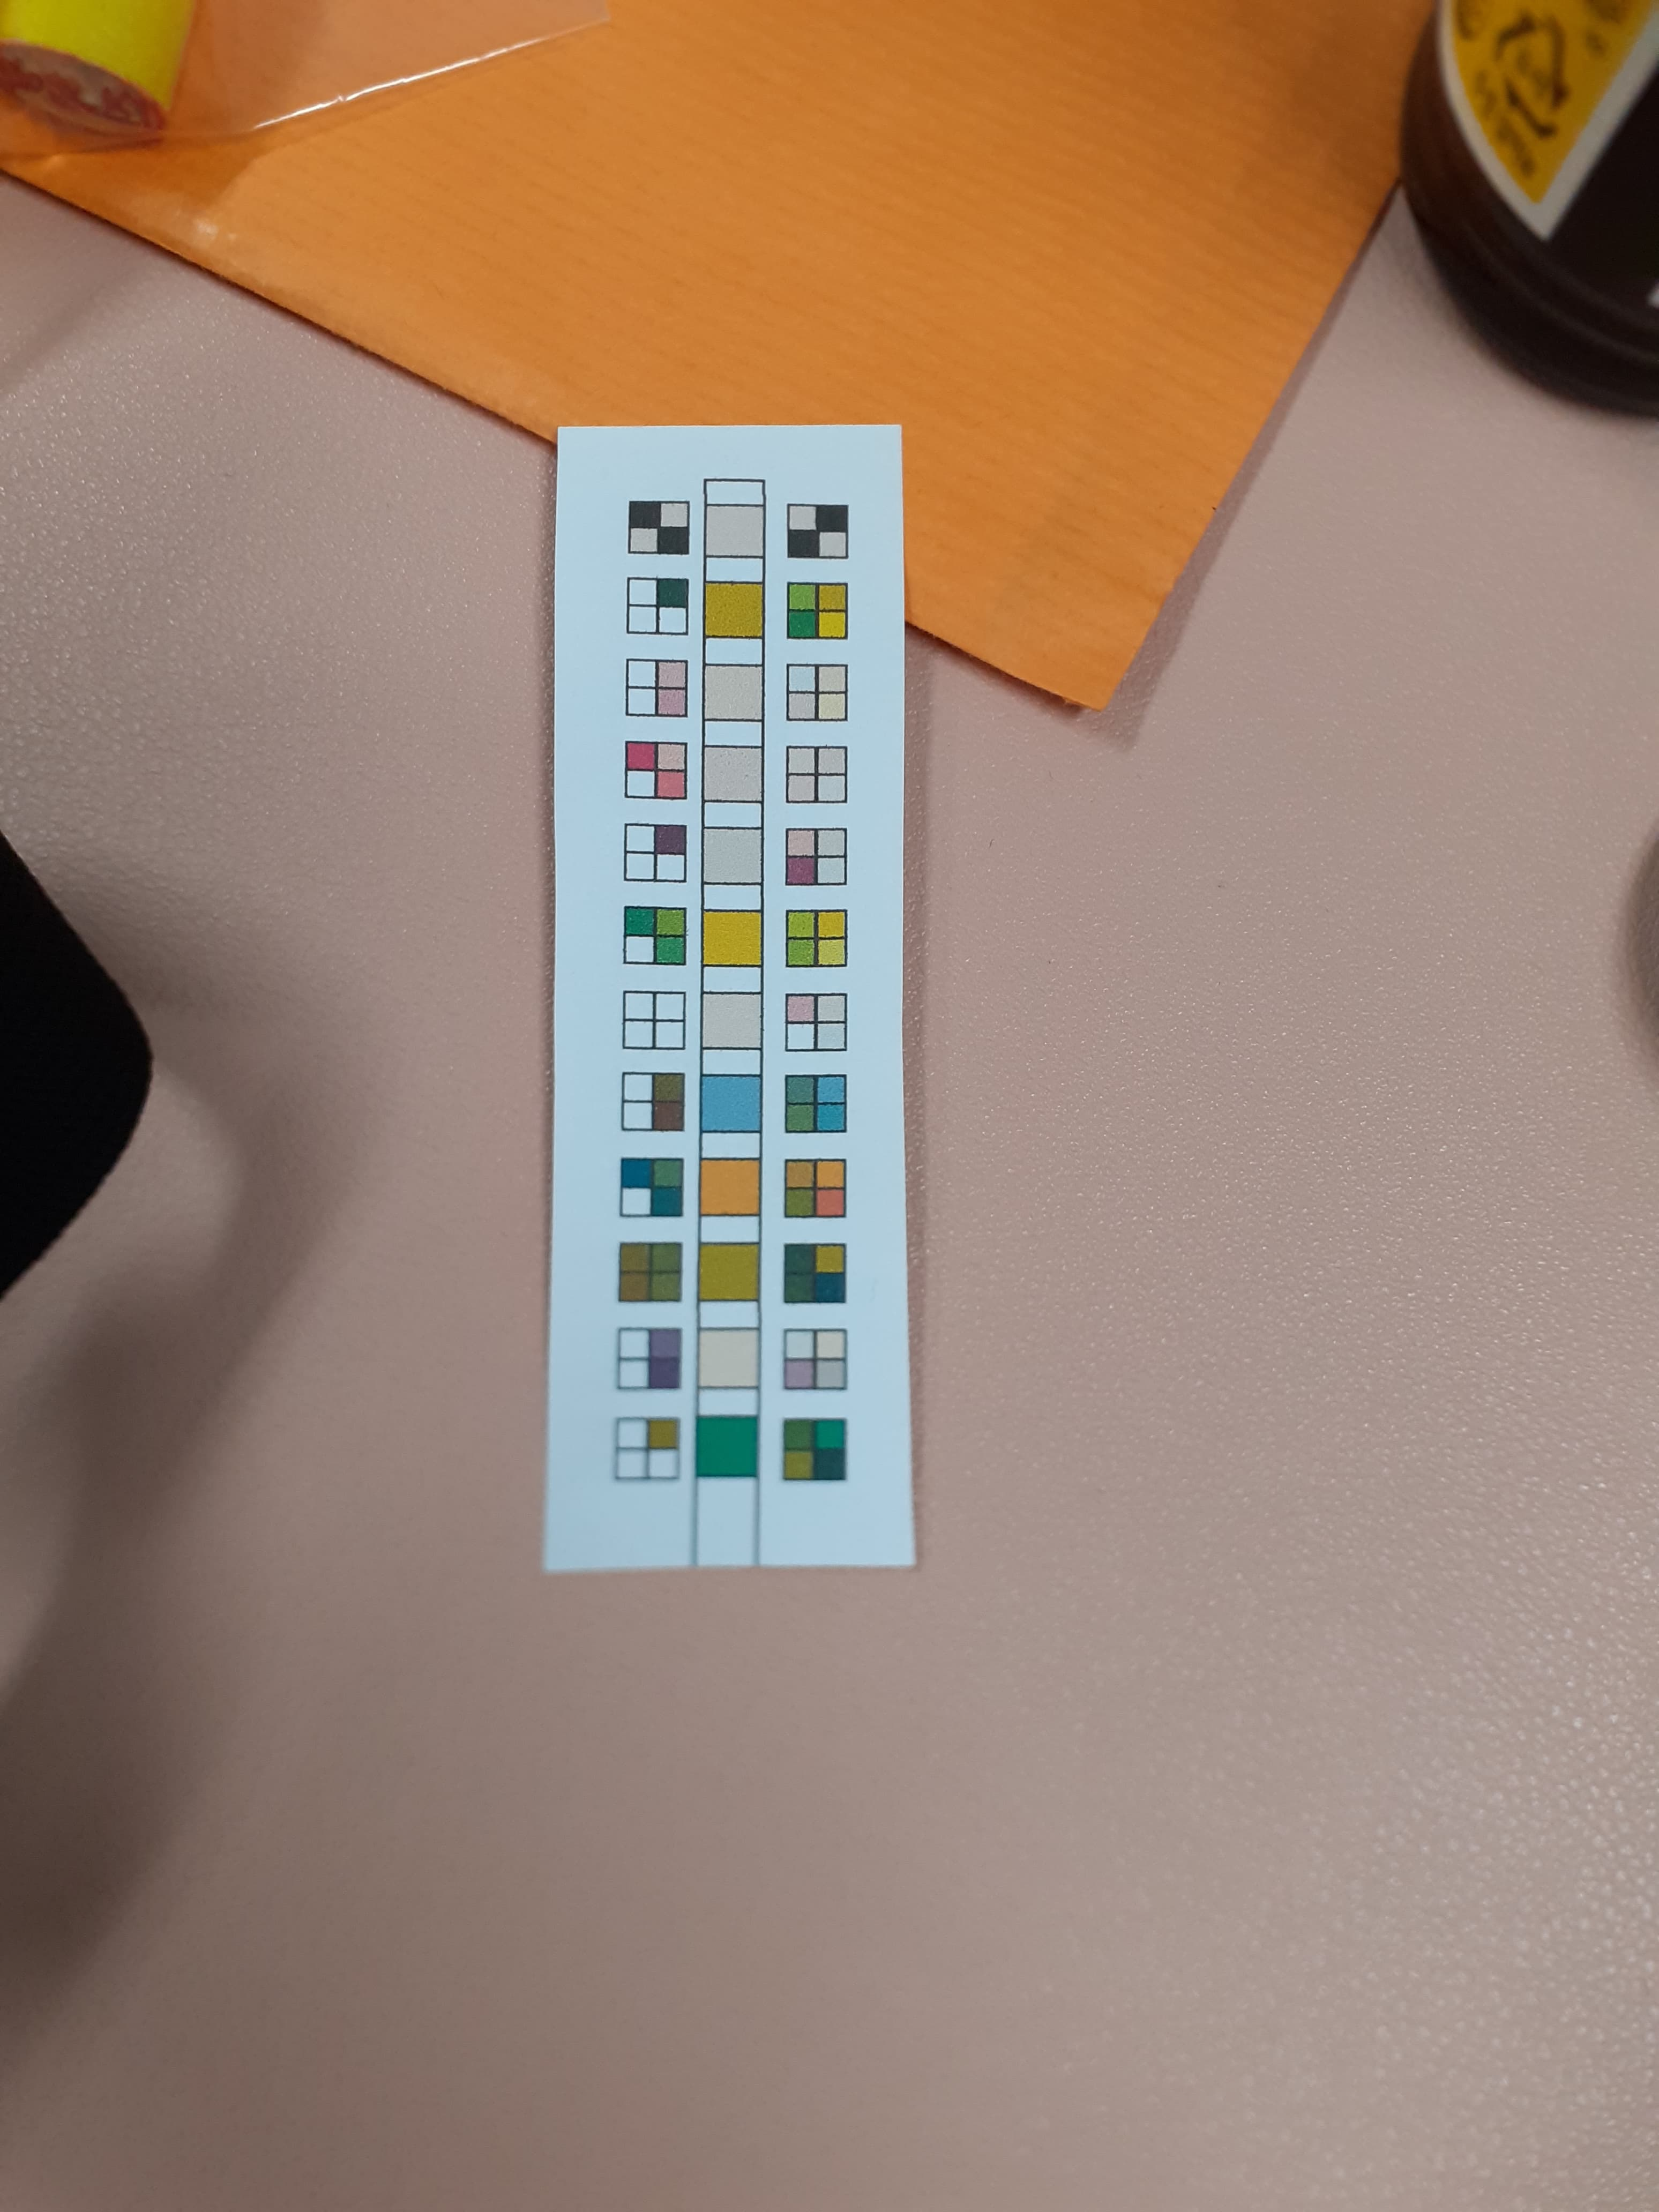tester: (554, 416, 918, 1581)
